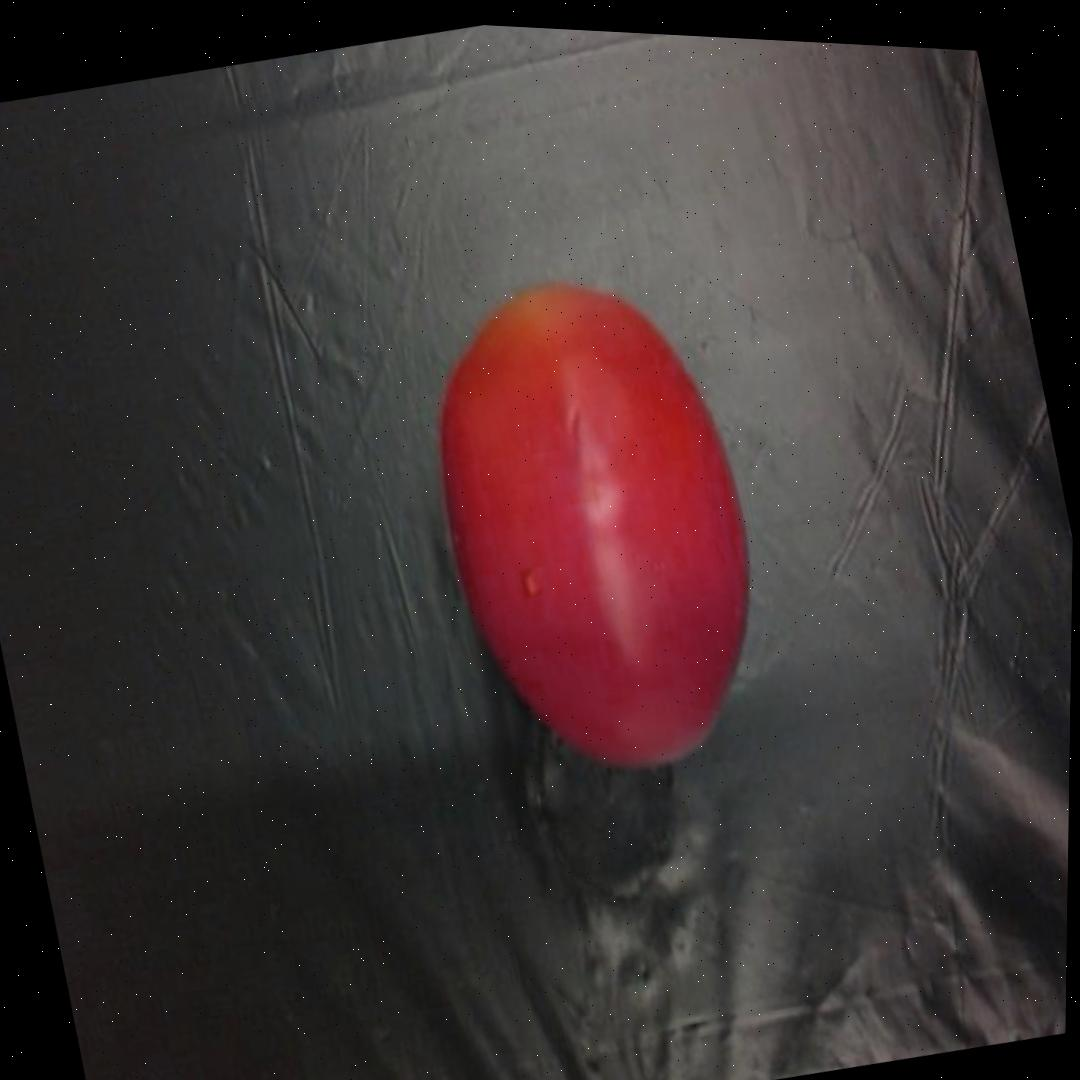matang: (401, 245, 797, 807)
